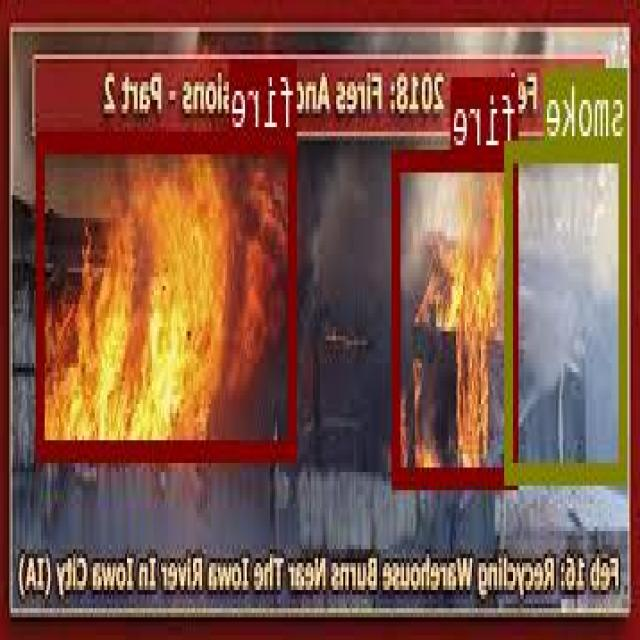fire: (39, 131, 298, 456), (394, 146, 519, 482)
smoke: (507, 140, 628, 480)
